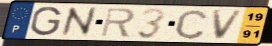3: (135, 7, 170, 40)
C: (173, 8, 210, 40)
G: (29, 6, 64, 37)
N: (59, 6, 98, 38)
R: (99, 7, 137, 38)
V: (211, 9, 246, 41)
